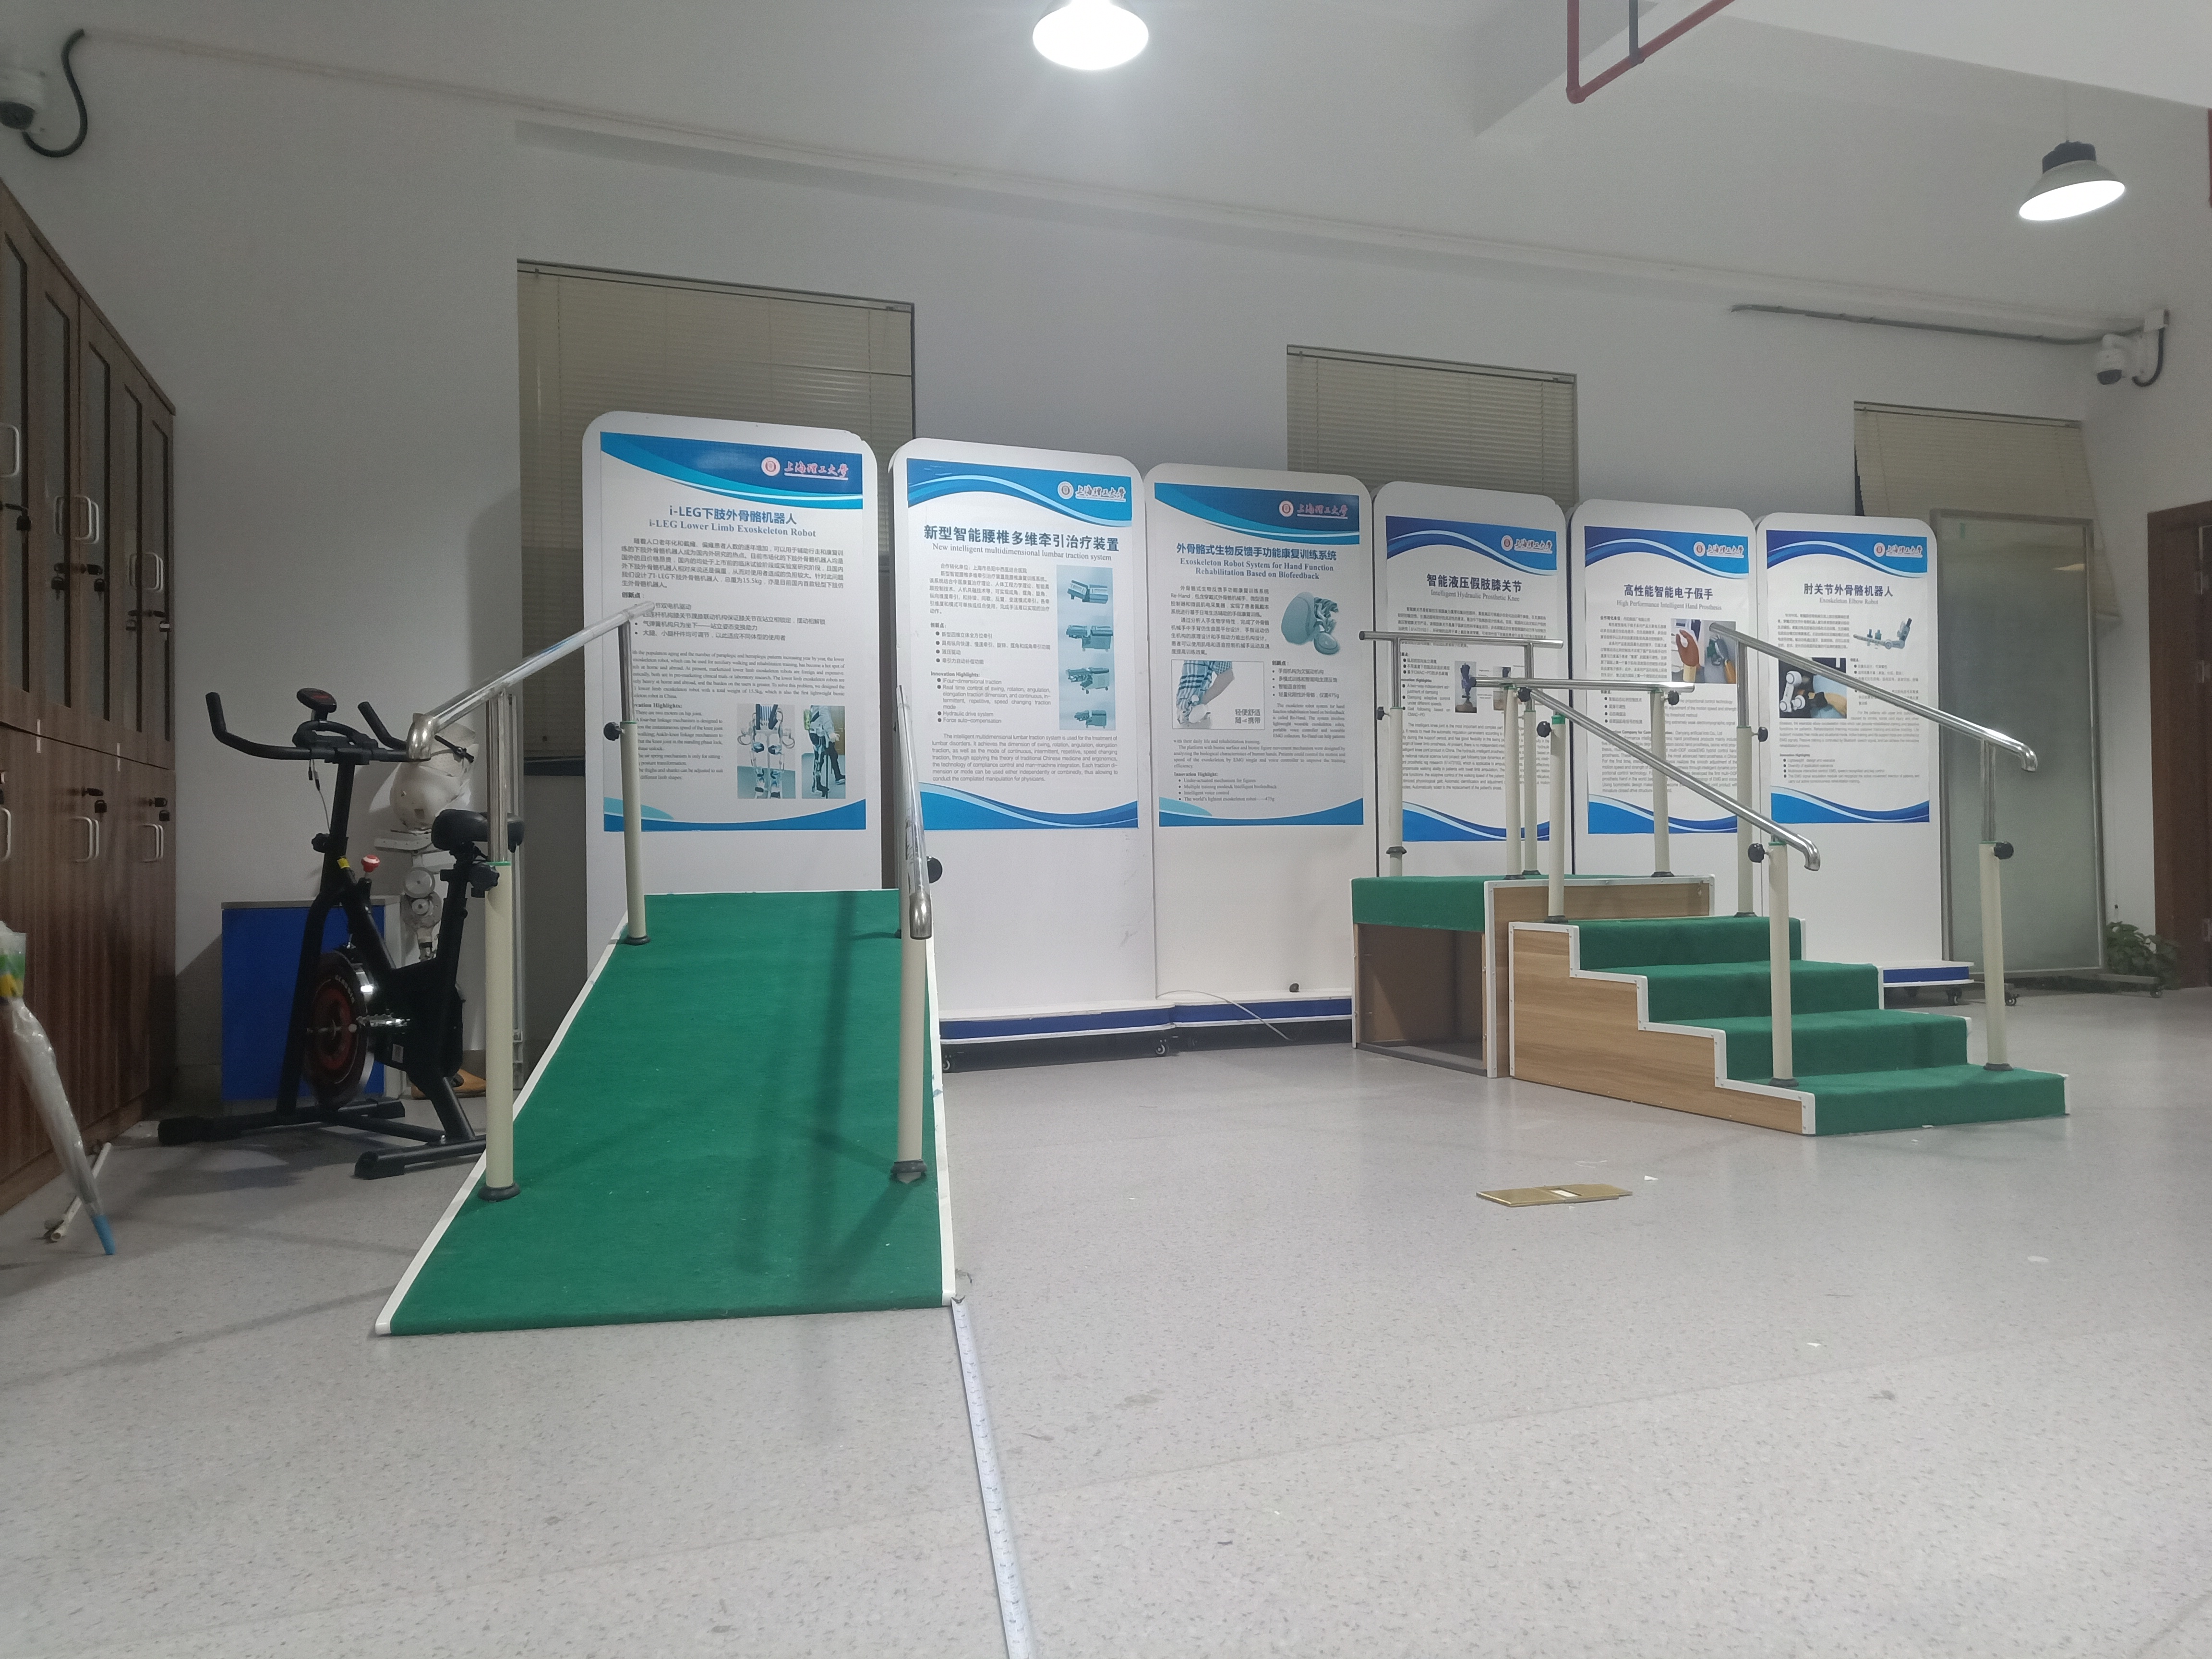ramps: (371, 889, 963, 1342)
stairs: (1507, 901, 2078, 1136)
